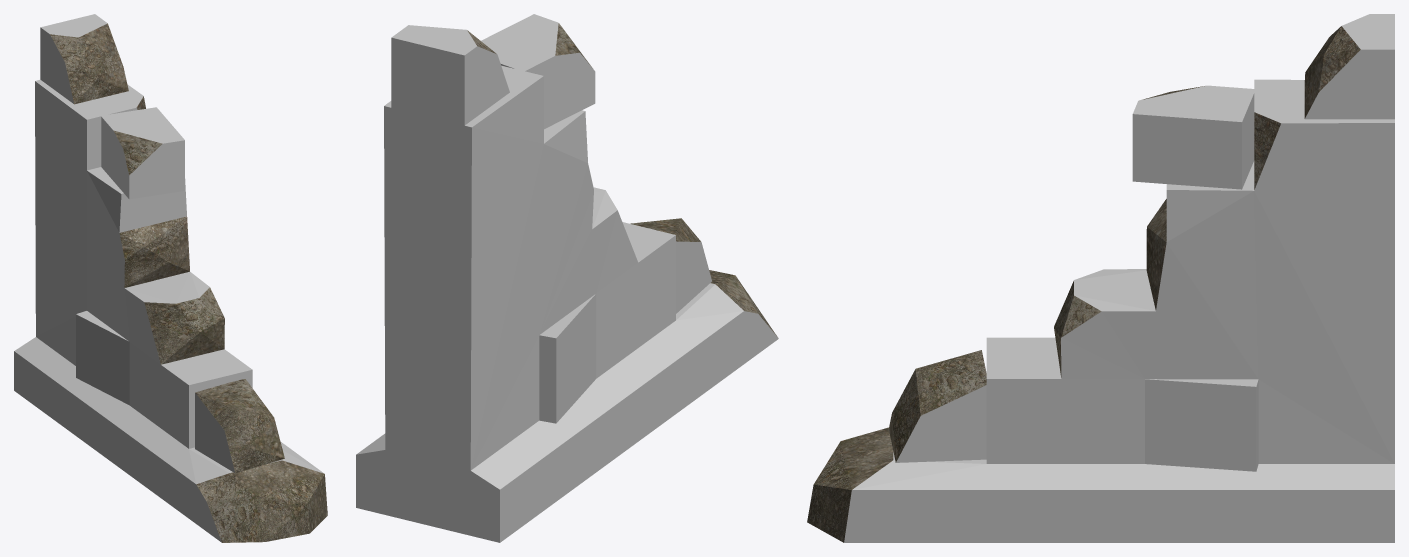
The model's file is bg_lut_lutomb_wall05c_sm_old.FBX.
3 renders of one model, left to right at view 1: azimuth 30°, elevation 25°; view 2: azimuth 150°, elevation 25°; view 3: azimuth 270°, elevation 25°, orthographic. The views are drawn at different scales.
Visible parts, largest first — view 1: bg_lut_lutomb_wall05c_sm_old; view 2: bg_lut_lutomb_wall05c_sm_old; view 3: bg_lut_lutomb_wall05c_sm_old.
Part boxes in pixels (left/top/right/bottom): bg_lut_lutomb_wall05c_sm_old: left=14, top=14, right=327, bottom=542; bg_lut_lutomb_wall05c_sm_old: left=356, top=14, right=778, bottom=542; bg_lut_lutomb_wall05c_sm_old: left=807, top=14, right=1394, bottom=542.
Bounding box in the file's own units: 64 × 204 × 228.
